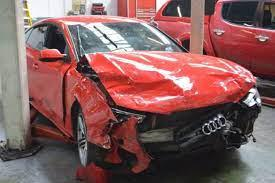bonnet-dent: (94, 51, 267, 104)
fender-dent: (64, 66, 110, 154)
front-bumper-dent: (94, 102, 268, 175)
